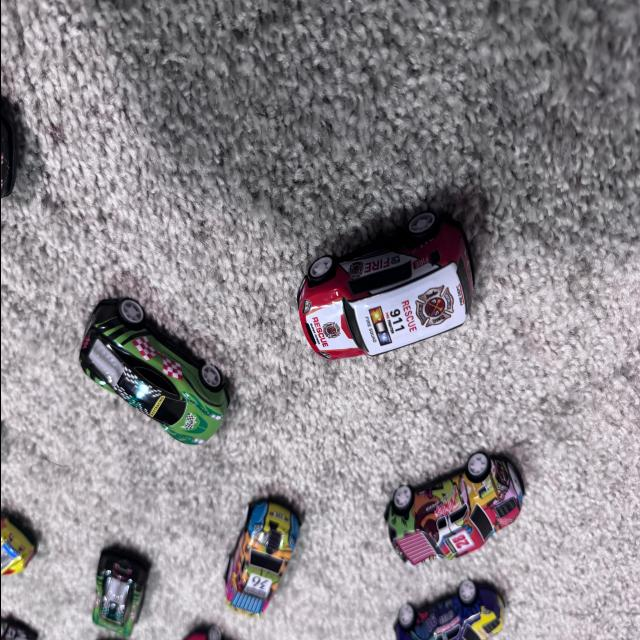Car: (266, 218, 506, 398), (361, 418, 517, 582), (78, 298, 234, 444), (202, 485, 318, 632), (378, 567, 528, 640), (80, 538, 162, 640)
